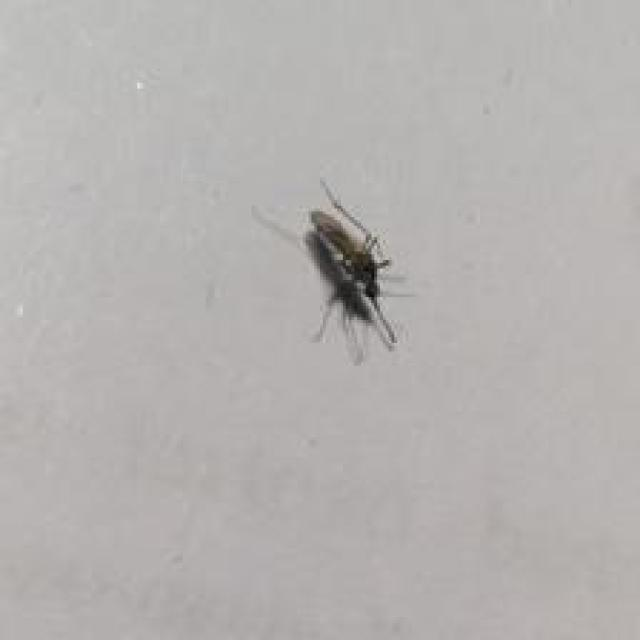Culex: (249, 177, 414, 366)
